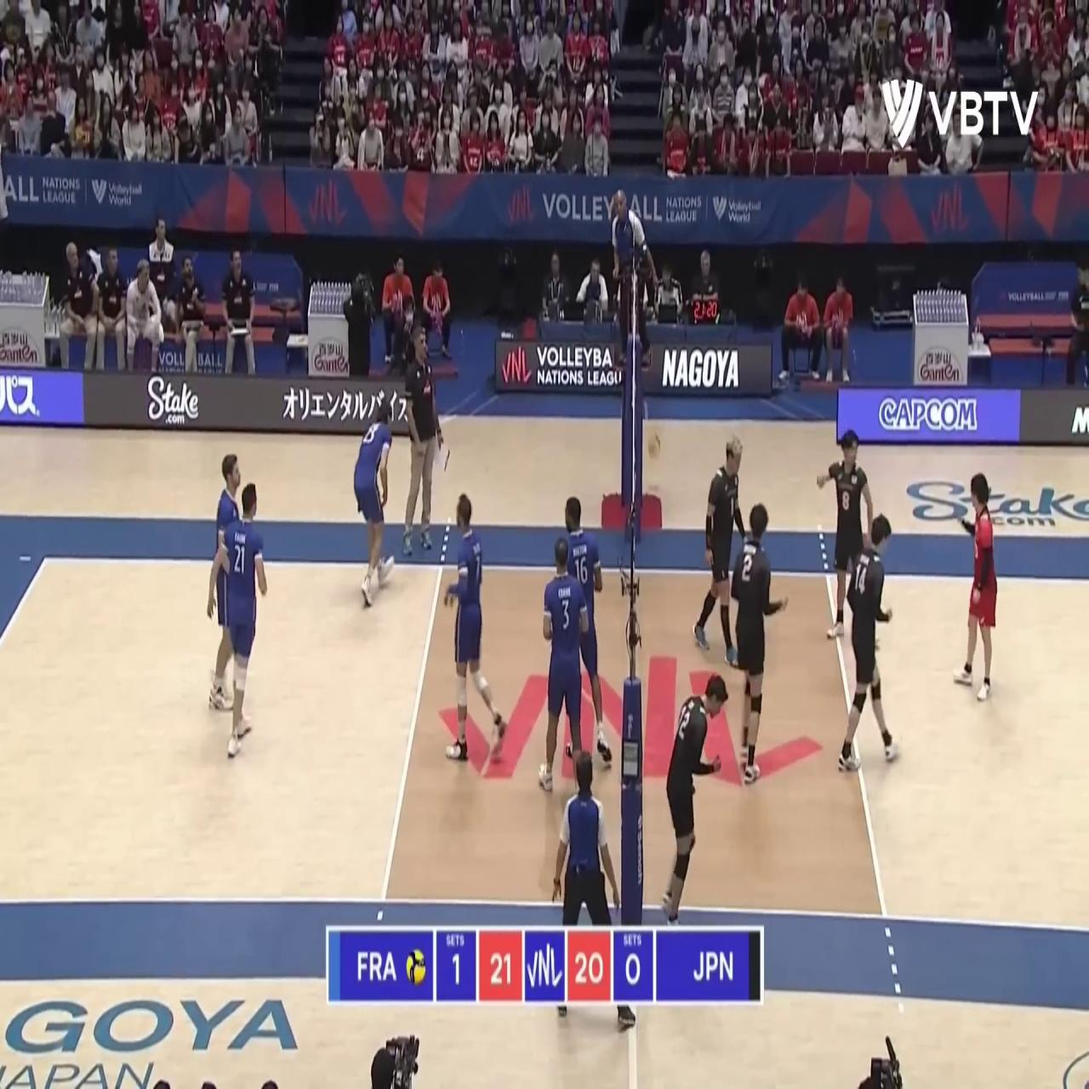ball: (648, 429, 663, 463)
